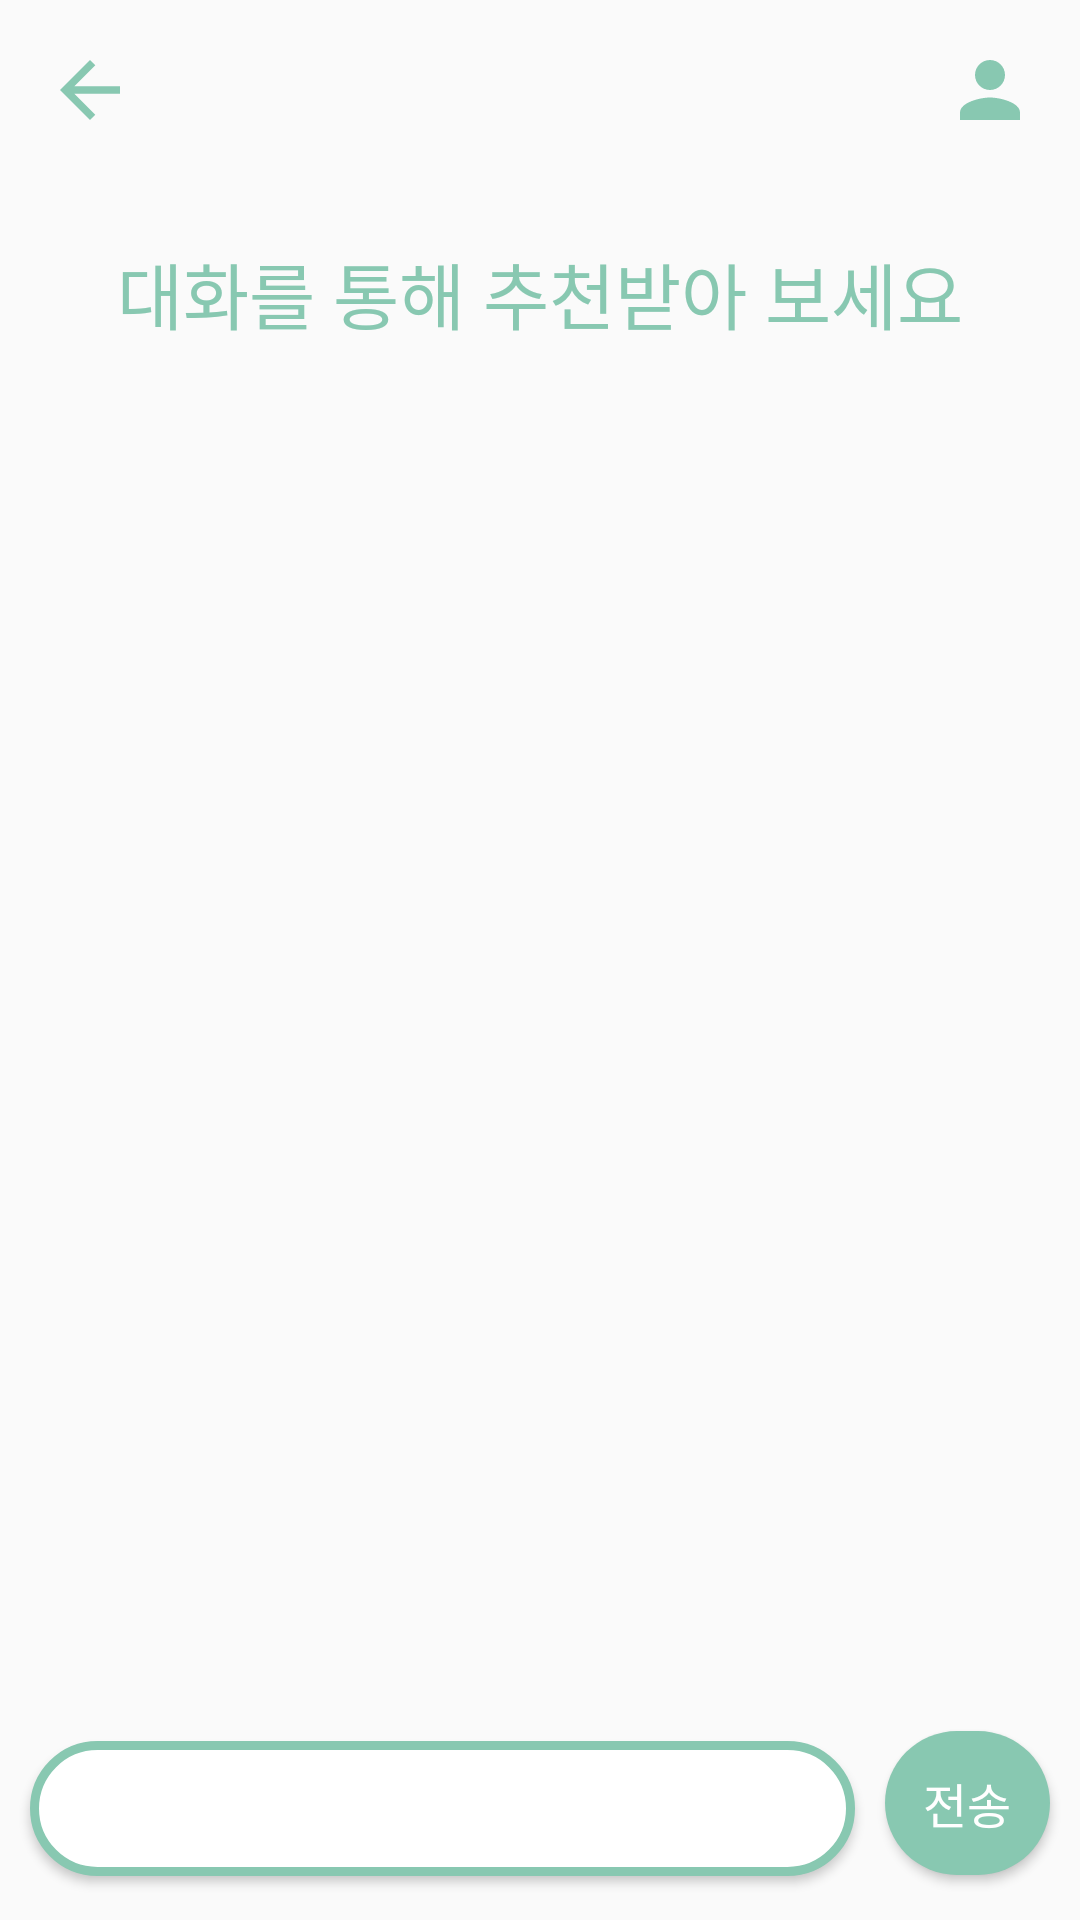

Where icons sit on this 1080 x 1920 app screen, as {"x1": x1, "y1": y1, "x2": x2, "y2": y2}:
arrow back: {"x1": 60, "y1": 60, "x2": 120, "y2": 120}
person: {"x1": 960, "y1": 60, "x2": 1020, "y2": 120}
